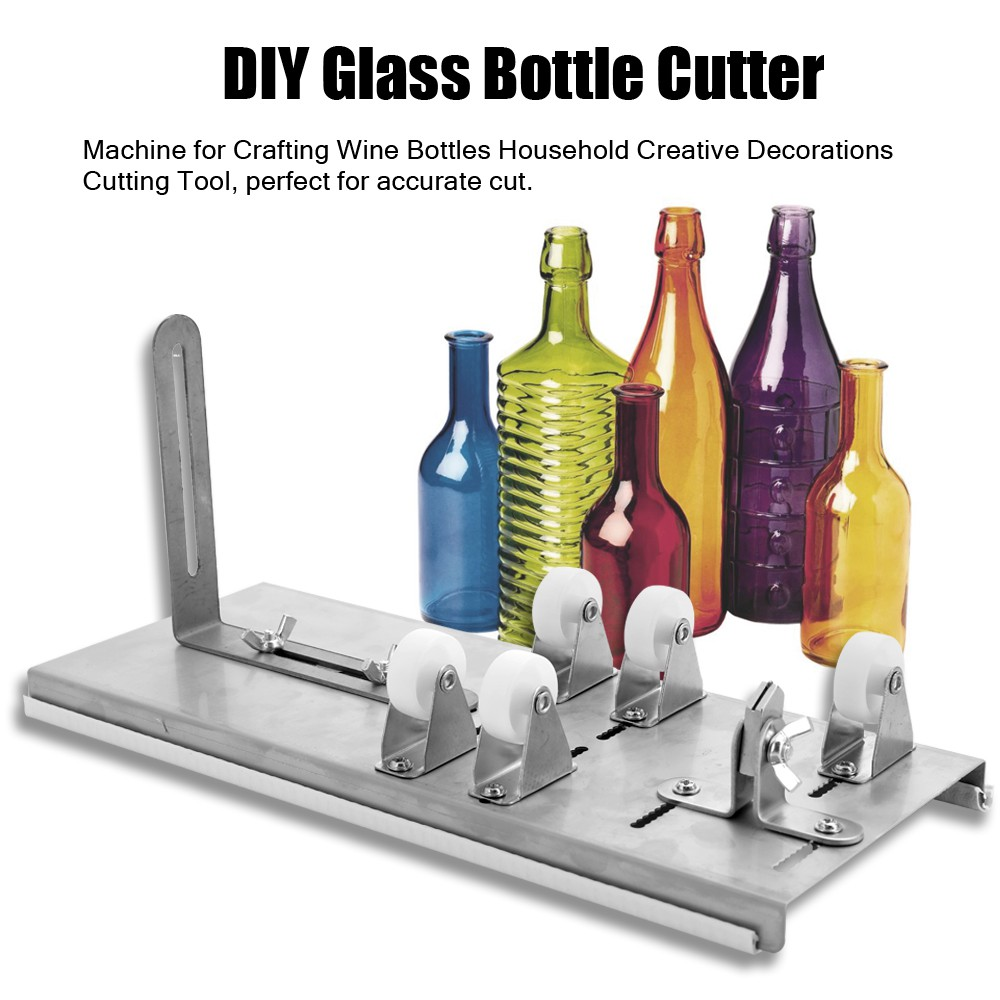glass_bottle: (605, 197, 739, 695), (479, 221, 630, 652), (720, 200, 845, 698), (793, 348, 920, 675), (575, 371, 696, 682), (412, 321, 512, 640)
